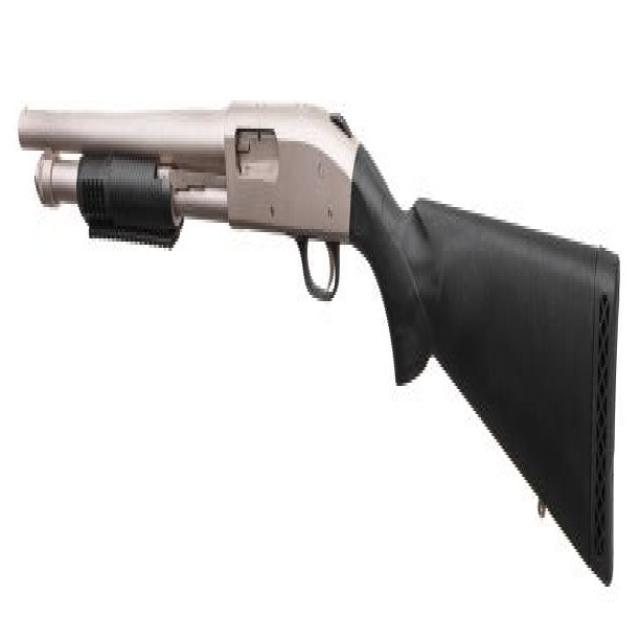rifle: (16, 94, 625, 600)
